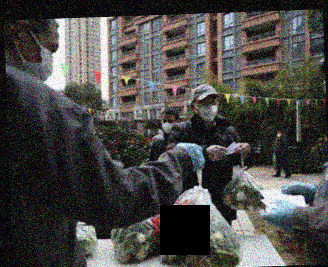with_mask: (21, 38, 60, 82), (196, 97, 219, 124), (159, 118, 176, 135), (275, 131, 282, 139)
